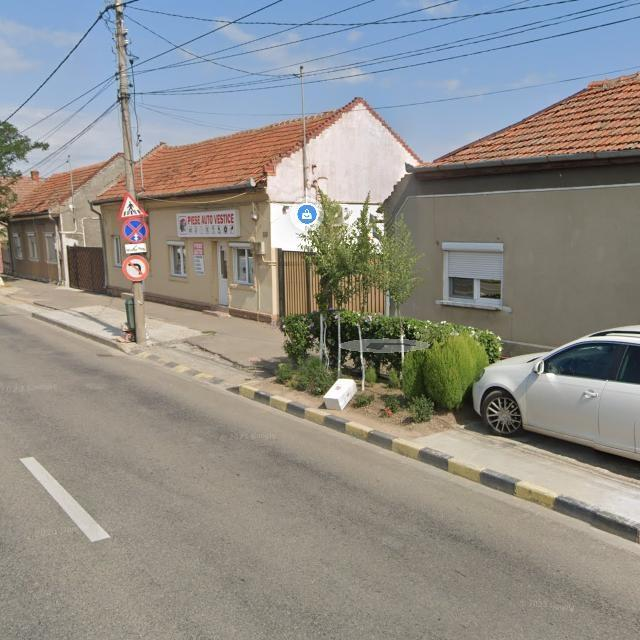forb_waiting: (122, 218, 149, 244)
